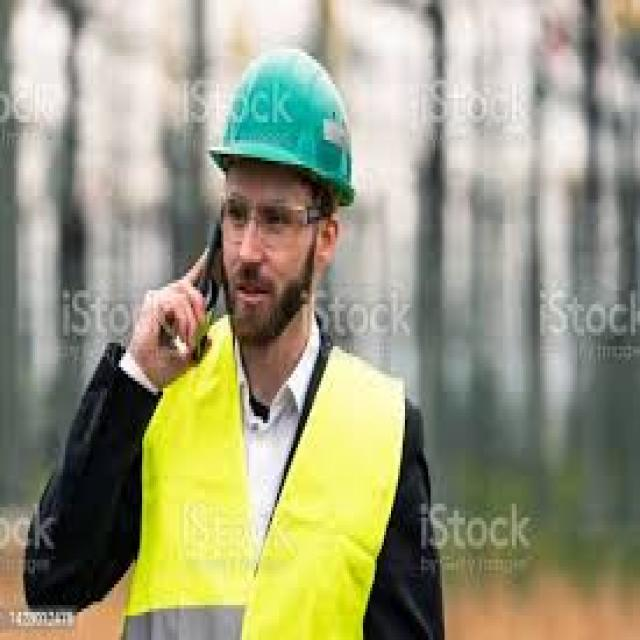helmet: (184, 31, 375, 210)
vest: (116, 297, 414, 640)
